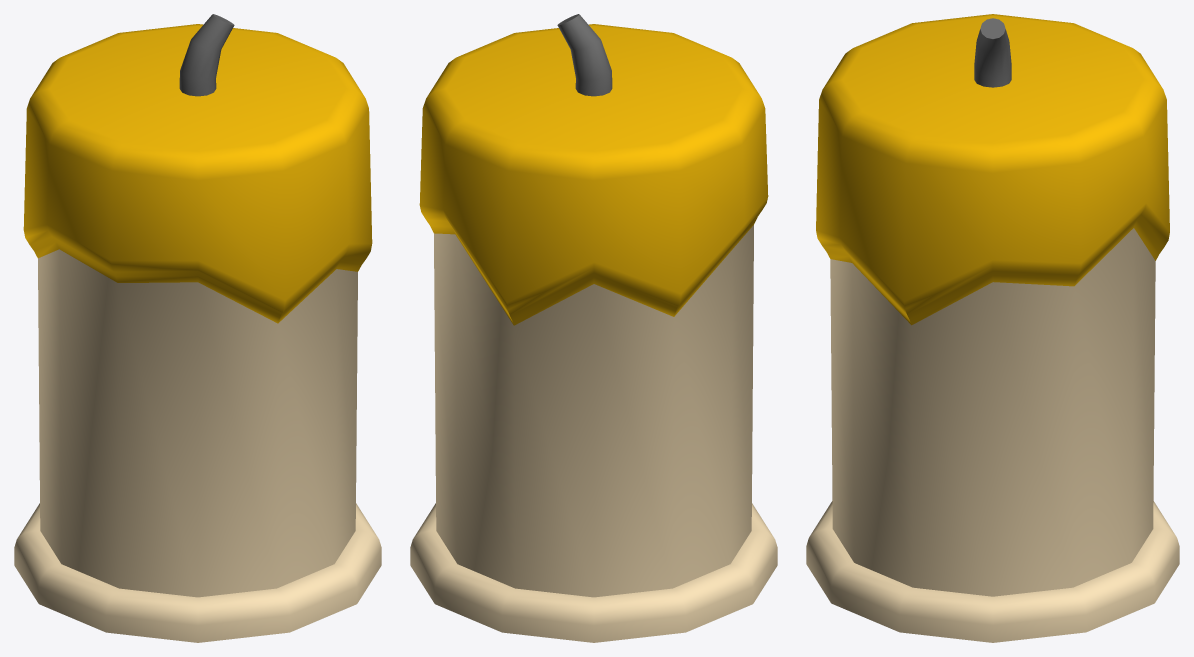
File: Candle_2C.fbx
3 views of the same model, side by side, from view 1: azimuth 30°, elevation 25°; view 2: azimuth 150°, elevation 25°; view 3: azimuth 270°, elevation 25° (orthographic).
Visible parts, largest first — view 1: Candle_2C; view 2: Candle_2C; view 3: Candle_2C.
Part boxes in pixels (x1,y1,x2,y2): Candle_2C: (14,14,381,642); Candle_2C: (410,14,777,642); Candle_2C: (806,14,1179,642).
Bounding box in the file's own units: 0.1001 × 0.1639 × 0.1001.
